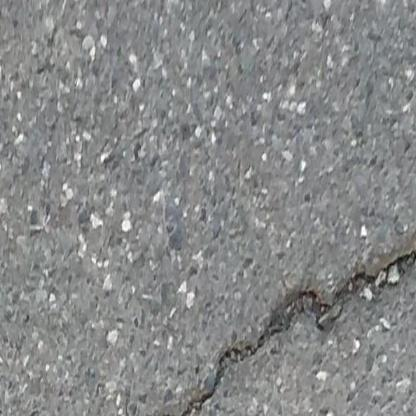Cracks: (146, 243, 416, 416)
